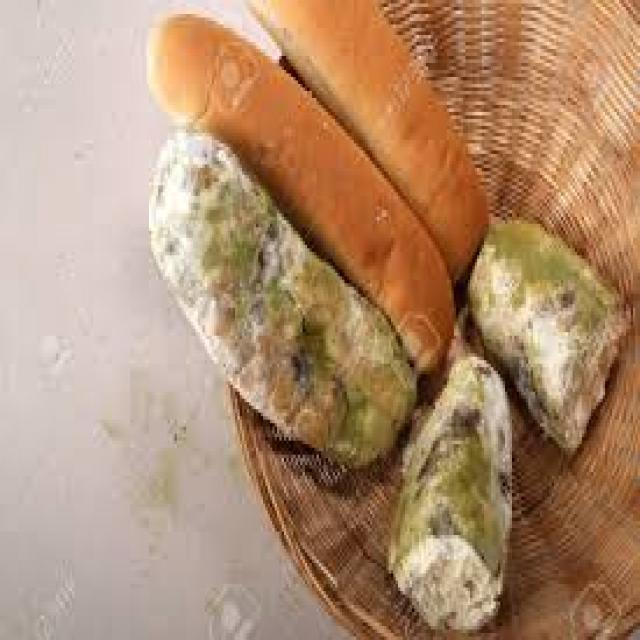organic waste: (144, 10, 449, 378), (147, 126, 412, 465), (249, 0, 484, 280), (384, 297, 514, 633), (466, 213, 630, 448)
